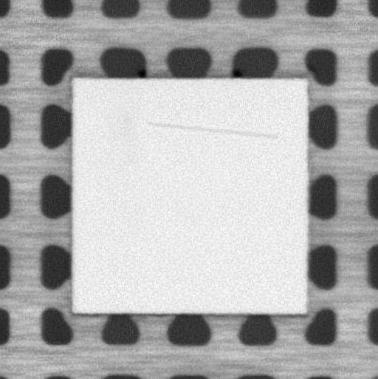DIE_CRACK: (148, 119, 278, 141)
